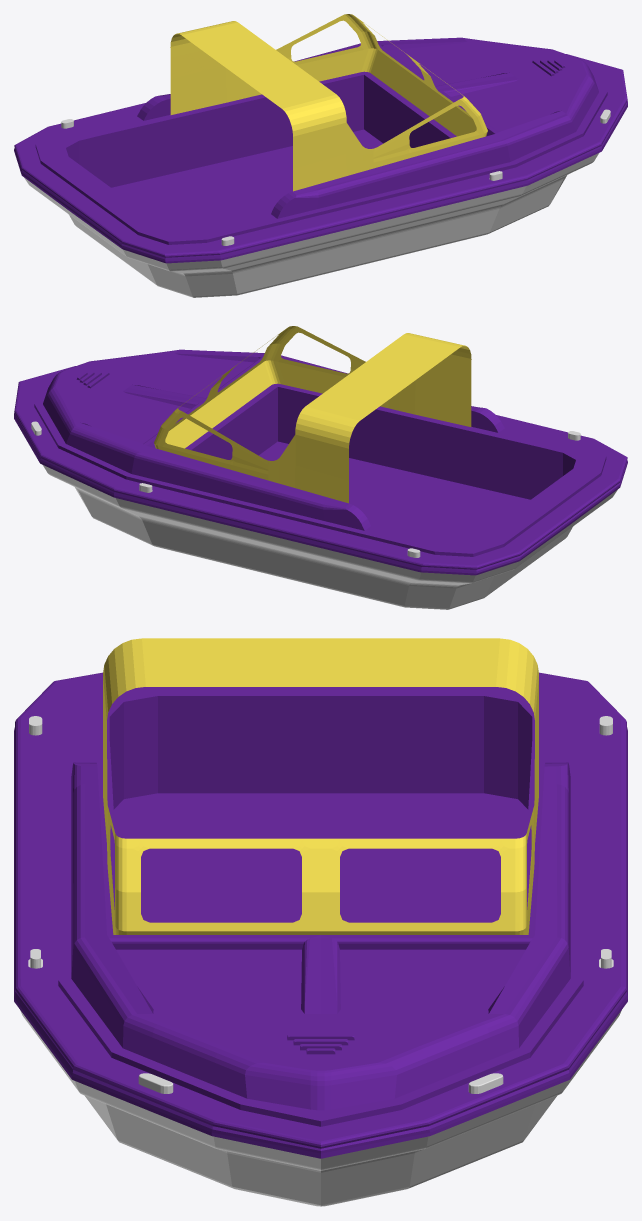
The picture shows the model from 3 angles, top to bottom: view 1: azimuth 30°, elevation 25°; view 2: azimuth 150°, elevation 25°; view 3: azimuth 270°, elevation 25°; orthographic projection. The views are drawn at different scales.
Parts seen in each view (by area): view 1: top, shed, base; view 2: top, shed, base; view 3: top, shed, base.
Part boxes in pixels (<box>): top: <box>14,37,627,263</box>; shed: <box>170,14,487,191</box>; base: <box>24,109,610,297</box>; top: <box>14,349,627,575</box>; shed: <box>154,326,471,503</box>; base: <box>31,421,617,609</box>; top: <box>14,672,627,1158</box>; shed: <box>103,638,538,934</box>; base: <box>20,716,621,1206</box>.
Bounding box in the file's own units: 0.1531 × 0.0418 × 0.0828.
